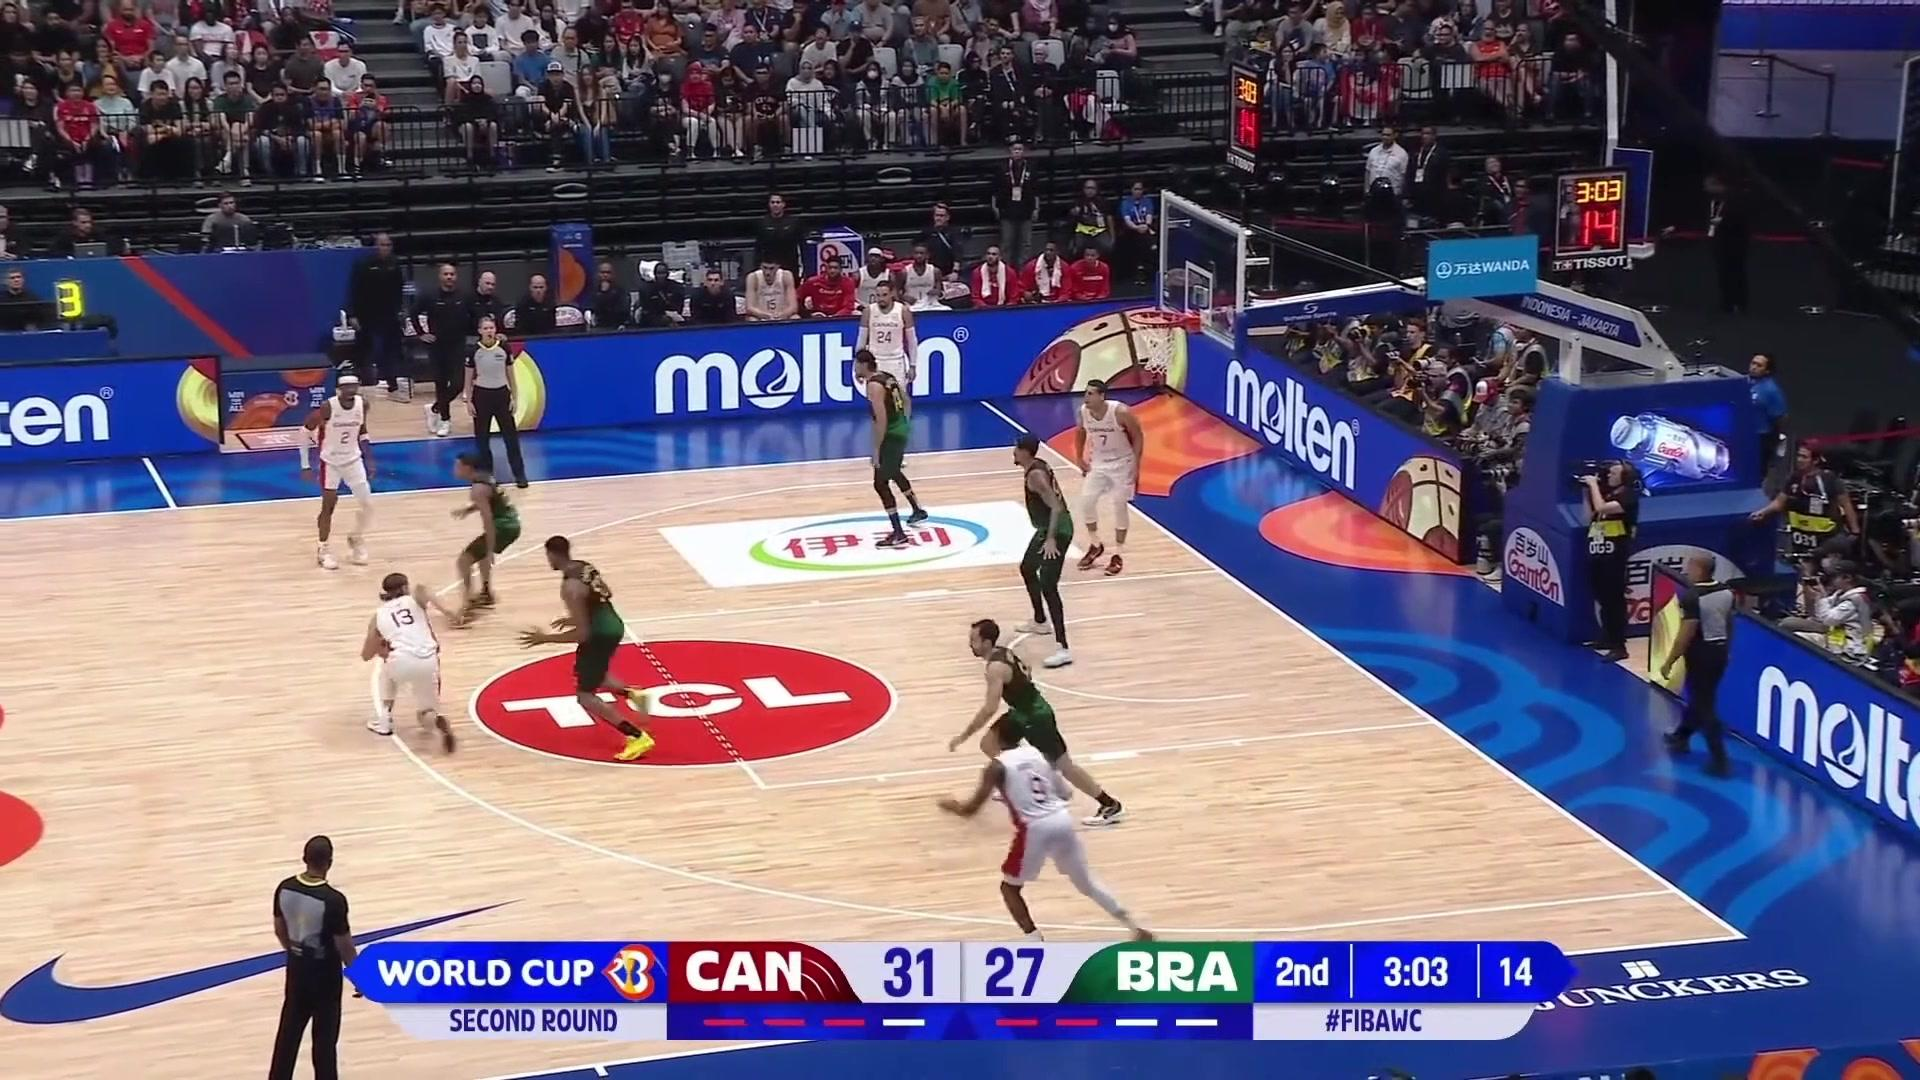foul: (313, 530, 582, 769)
